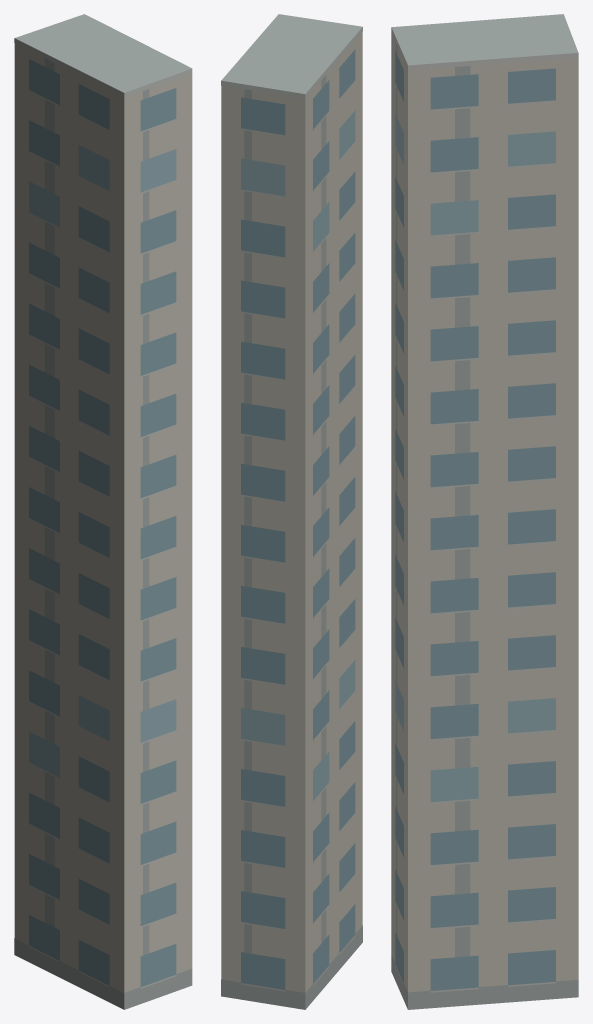
The model's file is survey-upis-32643292.glb.
3 views of the same model, side by side, from view 1: azimuth 30°, elevation 25°; view 2: azimuth 150°, elevation 25°; view 3: azimuth 270°, elevation 25° (orthographic). The views are drawn at different scales.
Visible parts, largest first — view 1: survey-upis-32643292.tmp; view 2: survey-upis-32643292.tmp; view 3: survey-upis-32643292.tmp.
Part boxes in pixels (bbox=[...]): survey-upis-32643292.tmp: bbox=[14, 14, 192, 1009]; survey-upis-32643292.tmp: bbox=[221, 14, 362, 1009]; survey-upis-32643292.tmp: bbox=[391, 14, 578, 1009].
Bounding box in the file's own units: 5.35 × 45.75 × 8.22.
